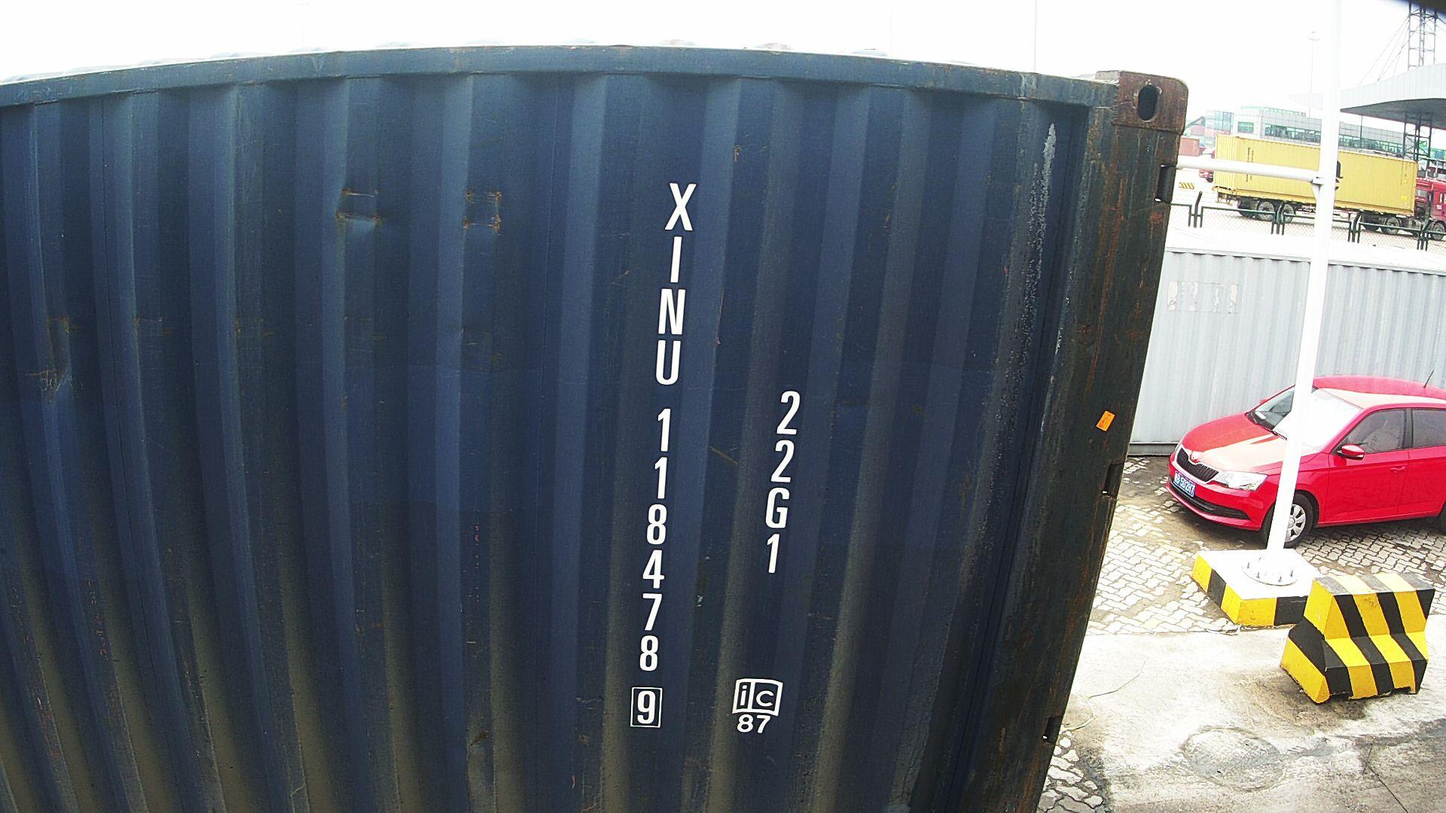container-numbers: (624, 178, 702, 735), (753, 383, 804, 582)
